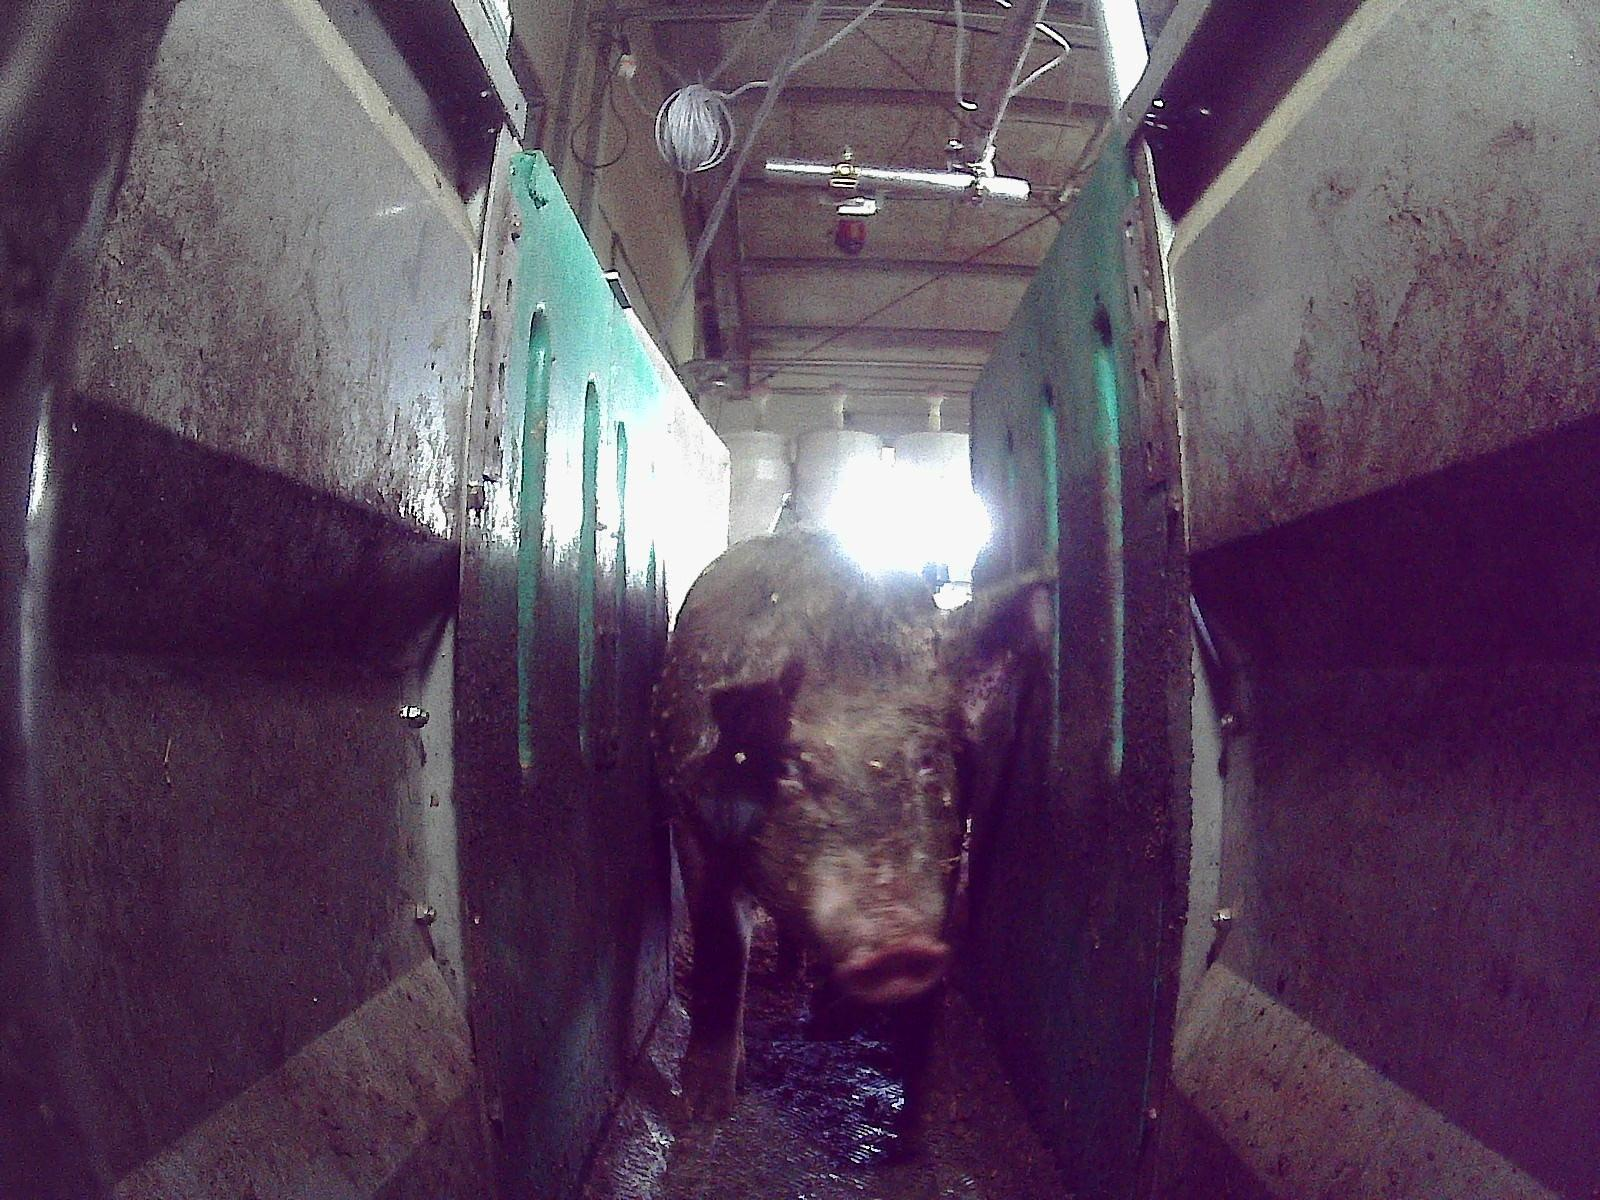Face: (726, 629, 964, 1002)
